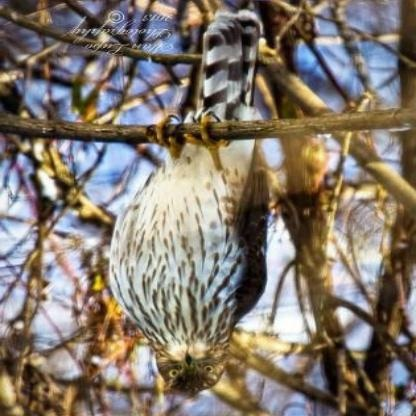Owl: (111, 30, 269, 389)
